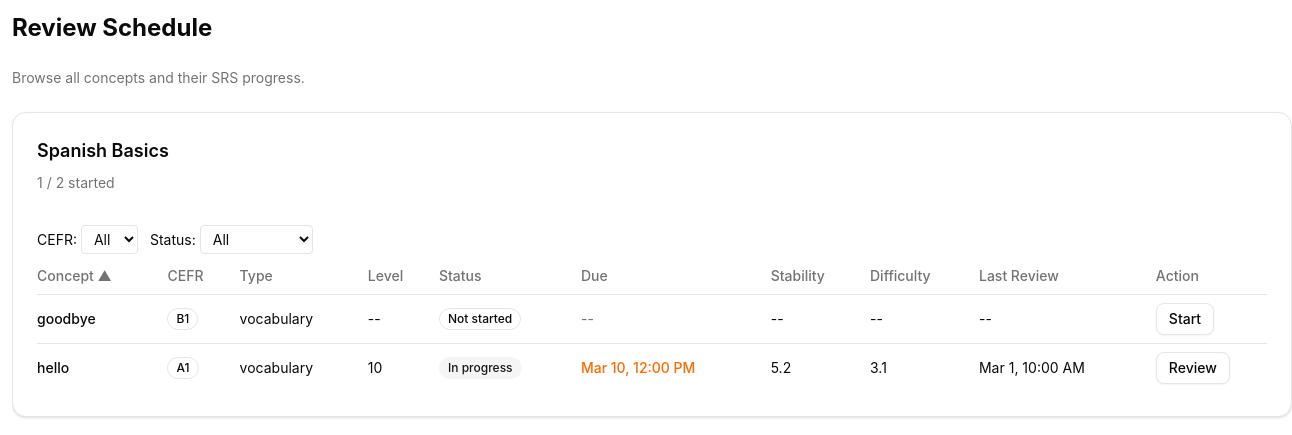
it: ReviewSchedulePage › filters by CEFR level
Expected: the text "hello" is shown, [37,344,168,392]
Expected: the text "goodbye" is shown, [37,294,168,344]
Select "A1" in the dropdown labelled "CEFR:" at x=110, y=240, box [81,225,138,254]
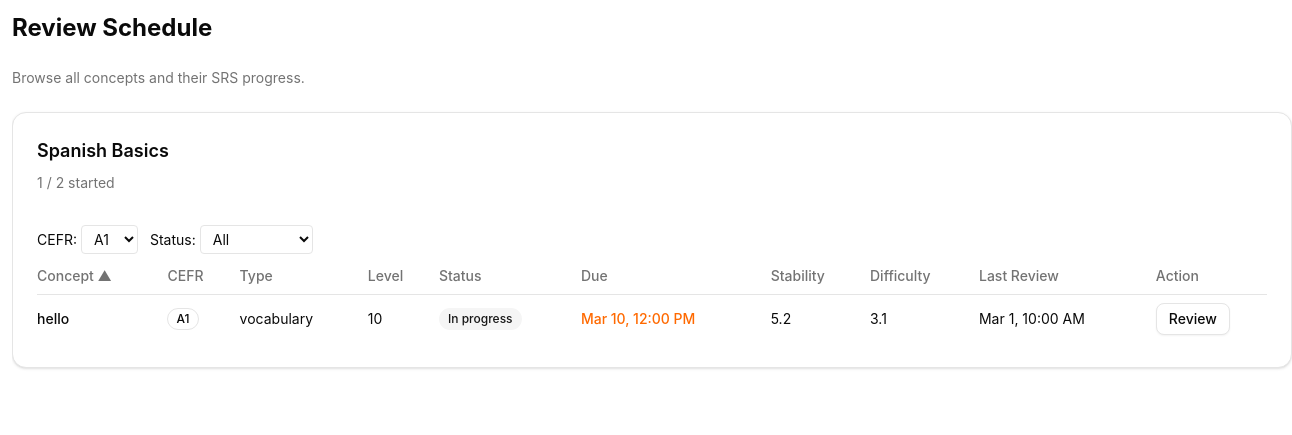
Expected: the text "hello" is shown, [37,294,168,343]
Now the text "goodbye" is gone
